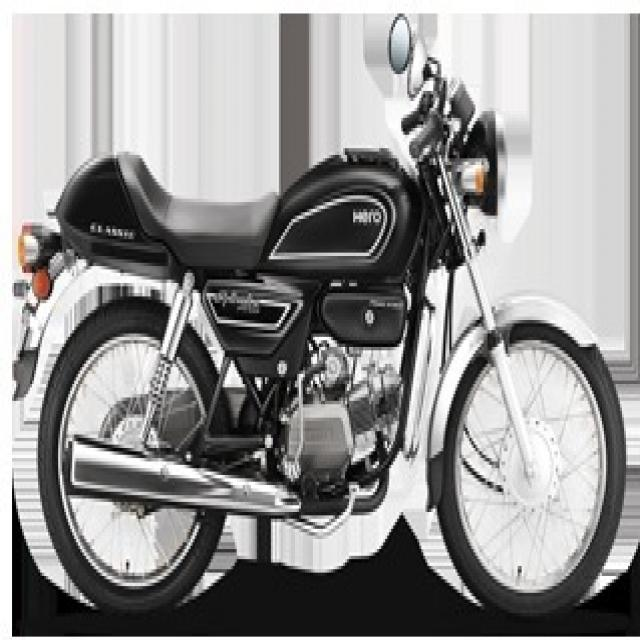Bike: (8, 14, 627, 628)
